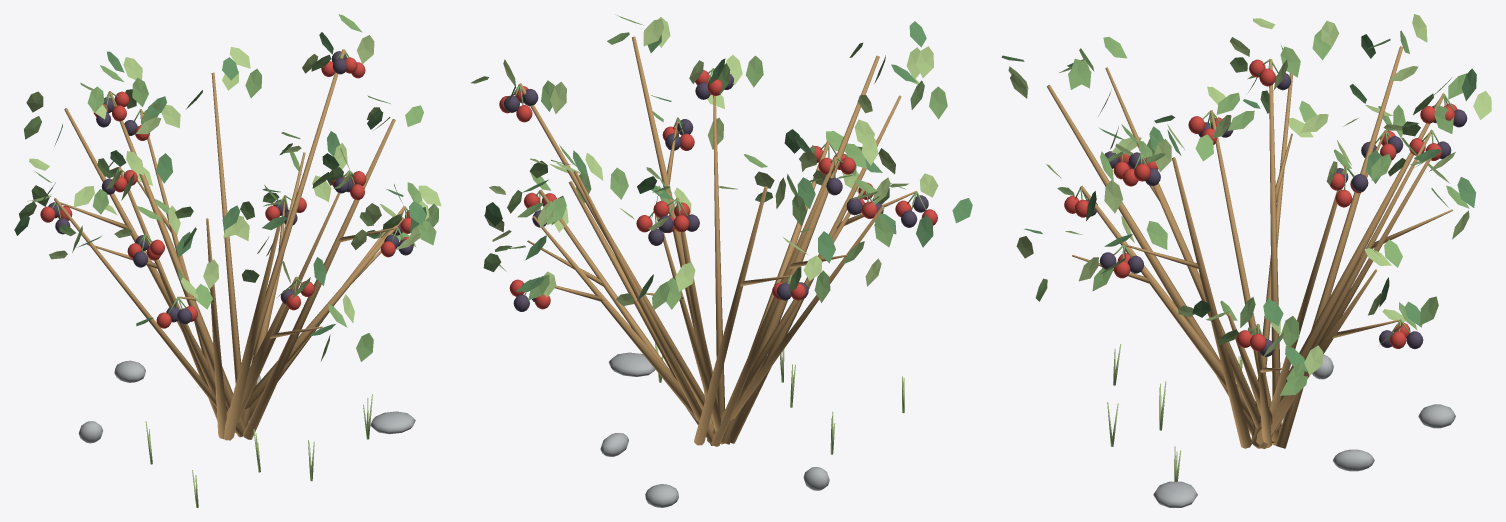
Rendered from berry_bush_d.glb.
3 views of the same model, side by side, from view 1: azimuth 30°, elevation 25°; view 2: azimuth 150°, elevation 25°; view 3: azimuth 270°, elevation 25° (orthographic). The views are drawn at different scales.
Visible parts, largest first — view 1: berry_bush_d_stem_14, berry_bush_d_stem_5, berry_bush_d_stem_11, berry_bush_d_stem_3, berry_bush_d_stem_1, berry_bush_d_stem_7, berry_bush_d_stem_15, berry_bush_d_stem_10, berry_bush_d_stem_6, berry_bush_d_stem_13, berry_bush_d_stem_2, berry_bush_d_stem_12 (+6 smaller); view 2: berry_bush_d_stem_6, berry_bush_d_stem_8, berry_bush_d_stem_3, berry_bush_d_stem_1, berry_bush_d_stem_11, berry_bush_d_stem_2, berry_bush_d_stem_13, berry_bush_d_stem_10, berry_bush_d_stem_14, berry_bush_d_stem_7, berry_bush_d_stem_15, berry_bush_d_stem_4 (+6 smaller); view 3: berry_bush_d_stem_14, berry_bush_d_stem_6, berry_bush_d_stem_5, berry_bush_d_stem_11, berry_bush_d_stem_8, berry_bush_d_stem_12, berry_bush_d_stem_1, berry_bush_d_stem_9, berry_bush_d_stem_13, berry_bush_d_stem_3, berry_bush_d_stem_4, berry_bush_d_stem_7 (+7 smaller).
Boxes of the visible parts, bbox=[...] form: berry_bush_d_stem_14: bbox=[243, 119, 395, 439]; berry_bush_d_stem_5: bbox=[108, 91, 246, 435]; berry_bush_d_stem_11: bbox=[224, 225, 280, 440]; berry_bush_d_stem_3: bbox=[211, 72, 241, 383]; berry_bush_d_stem_1: bbox=[249, 49, 345, 367]; berry_bush_d_stem_7: bbox=[54, 198, 242, 437]; berry_bush_d_stem_15: bbox=[244, 217, 404, 409]; berry_bush_d_stem_10: bbox=[206, 218, 226, 439]; berry_bush_d_stem_6: bbox=[64, 108, 227, 410]; berry_bush_d_stem_13: bbox=[237, 171, 349, 422]; berry_bush_d_stem_2: bbox=[235, 152, 305, 432]; berry_bush_d_stem_12: bbox=[226, 276, 298, 418]; berry_bush_d_stem_6: bbox=[694, 186, 767, 445]; berry_bush_d_stem_8: bbox=[711, 156, 837, 446]; berry_bush_d_stem_3: bbox=[574, 171, 701, 421]; berry_bush_d_stem_1: bbox=[518, 83, 713, 426]; berry_bush_d_stem_11: bbox=[749, 55, 879, 385]; berry_bush_d_stem_2: bbox=[532, 215, 698, 422]; berry_bush_d_stem_13: bbox=[713, 68, 725, 416]; berry_bush_d_stem_10: bbox=[730, 95, 901, 443]; berry_bush_d_stem_14: bbox=[632, 36, 716, 400]; berry_bush_d_stem_7: bbox=[730, 206, 884, 420]; berry_bush_d_stem_15: bbox=[568, 181, 714, 445]; berry_bush_d_stem_4: bbox=[656, 216, 725, 444]; berry_bush_d_stem_14: bbox=[1172, 157, 1251, 448]; berry_bush_d_stem_6: bbox=[1275, 46, 1403, 448]; berry_bush_d_stem_5: bbox=[1251, 93, 1444, 447]; berry_bush_d_stem_11: bbox=[1047, 85, 1253, 435]; berry_bush_d_stem_8: bbox=[1269, 59, 1281, 431]; berry_bush_d_stem_12: bbox=[1080, 185, 1253, 422]; berry_bush_d_stem_1: bbox=[1269, 165, 1348, 413]; berry_bush_d_stem_9: bbox=[1210, 110, 1276, 443]; berry_bush_d_stem_13: bbox=[1141, 154, 1261, 428]; berry_bush_d_stem_3: bbox=[1259, 149, 1433, 448]; berry_bush_d_stem_4: bbox=[1313, 129, 1432, 347]; berry_bush_d_stem_7: bbox=[1251, 73, 1292, 438].
Bounding box in the file's own units: 1.53 × 1.19 × 1.4.
